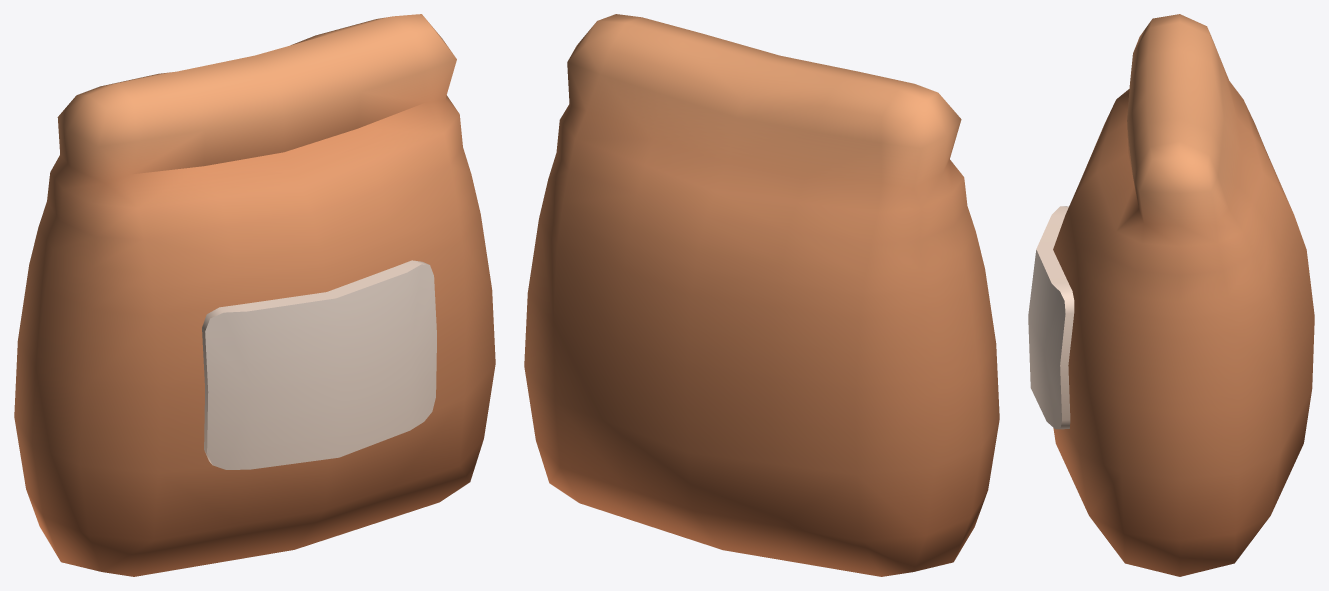
The model's file is flour-sack-closed.glb.
The picture shows the model from 3 angles, left to right: view 1: azimuth 30°, elevation 25°; view 2: azimuth 150°, elevation 25°; view 3: azimuth 270°, elevation 25°; orthographic projection. The views are drawn at different scales.
Parts seen in each view (by area): view 1: flour_sack_closed; view 2: flour_sack_closed; view 3: flour_sack_closed.
Part boxes in pixels (<box>): flour_sack_closed: <box>14,14,495,576</box>; flour_sack_closed: <box>524,14,999,576</box>; flour_sack_closed: <box>1028,14,1314,576</box>.
Bounding box in the file's own units: 0.5338 × 0.5485 × 0.3359.
Materials: 1 (1 with a texture image).
